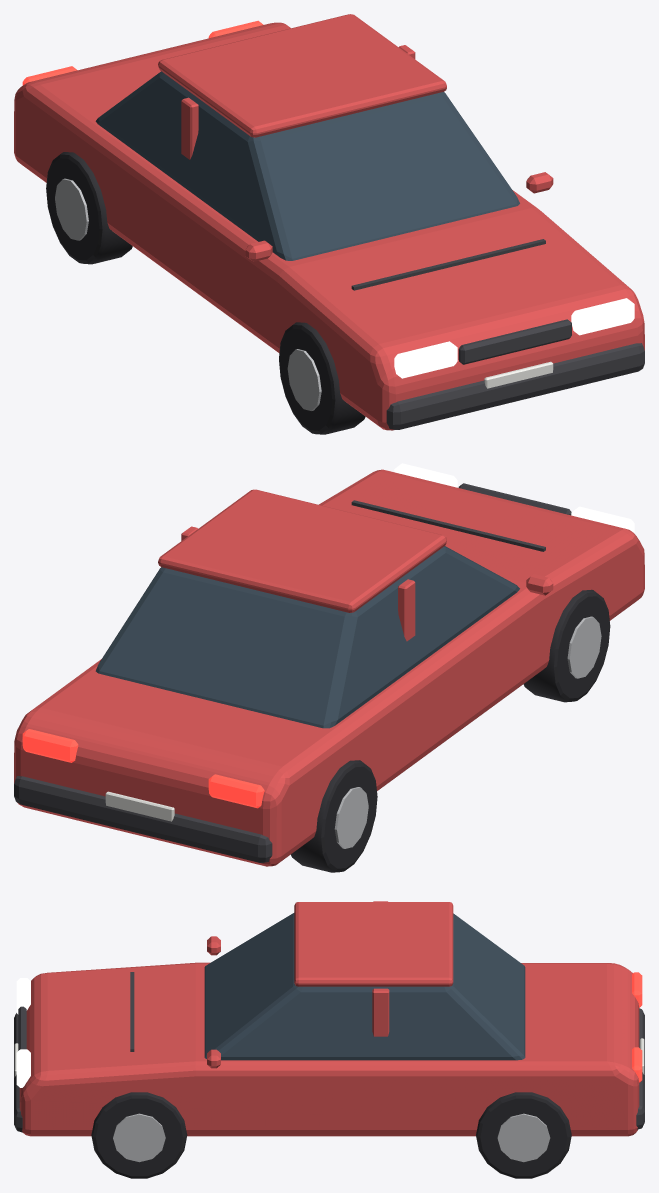
Rendered from sedan.glb.
3 views of the same model, one above another, from view 1: azimuth 30°, elevation 25°; view 2: azimuth 150°, elevation 25°; view 3: azimuth 270°, elevation 25° (orthographic). The views are drawn at different scales.
Parts seen in each view (by area): view 1: Body.002, Cabin, Roof, BumperF, Tyre0L, Tyre1L, Grille, HL-1, HL1, Rim1L, Rim0L, Crease (+2 smaller); view 2: Body.002, Cabin, Roof, BumperR, Tyre1L, Tyre0L, Rim0L, Rim1L, TL1, TL-1, Crease, PlateR (+4 smaller); view 3: Body.002, Cabin, Roof, Tyre1R, Tyre0R, Rim1R, Rim0R, PillarB1, BumperR, BumperF, HL1, HL-1.
Boxes of the visible parts, x1,y1,x2,y2 form: Body.002: [14, 22, 644, 430]; Cabin: [95, 71, 519, 260]; Roof: [158, 14, 446, 137]; BumperF: [386, 343, 644, 429]; Tyre0L: [279, 322, 365, 434]; Tyre1L: [46, 152, 132, 264]; Grille: [458, 319, 571, 364]; HL-1: [394, 341, 457, 378]; HL1: [571, 298, 634, 335]; Rim1L: [55, 178, 88, 240]; Rim0L: [287, 349, 321, 410]; Crease: [351, 239, 545, 290]; Body.002: [14, 469, 644, 866]; Cabin: [95, 546, 519, 728]; Roof: [158, 489, 446, 612]; BumperR: [14, 776, 272, 862]; Tyre1L: [291, 760, 377, 872]; Tyre0L: [523, 589, 610, 702]; Rim0L: [567, 616, 601, 678]; Rim1L: [334, 787, 368, 848]; TL1: [22, 729, 78, 762]; TL-1: [208, 774, 264, 808]; Crease: [351, 500, 545, 551]; PlateR: [105, 791, 174, 821]; Body.002: [19, 962, 639, 1136]; Cabin: [204, 913, 525, 1060]; Roof: [294, 902, 453, 986]; Tyre1R: [476, 1092, 571, 1178]; Tyre0R: [91, 1092, 187, 1178]; Rim1R: [497, 1113, 550, 1162]; Rim0R: [113, 1113, 165, 1162]; PillarB1: [372, 988, 389, 1036]; BumperR: [636, 1008, 644, 1129]; BumperF: [14, 1013, 22, 1132]; HL1: [16, 1049, 30, 1087]; HL-1: [16, 978, 30, 1014].
Bounding box in the file's own units: 2.06 × 1.44 × 4.48.
